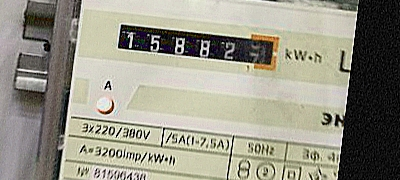1: (124, 29, 135, 48)
2: (222, 39, 237, 60)
5: (146, 32, 162, 52)
7: (246, 49, 260, 62)
8: (196, 36, 212, 58), (173, 34, 187, 55)
screen: (111, 15, 284, 74)
